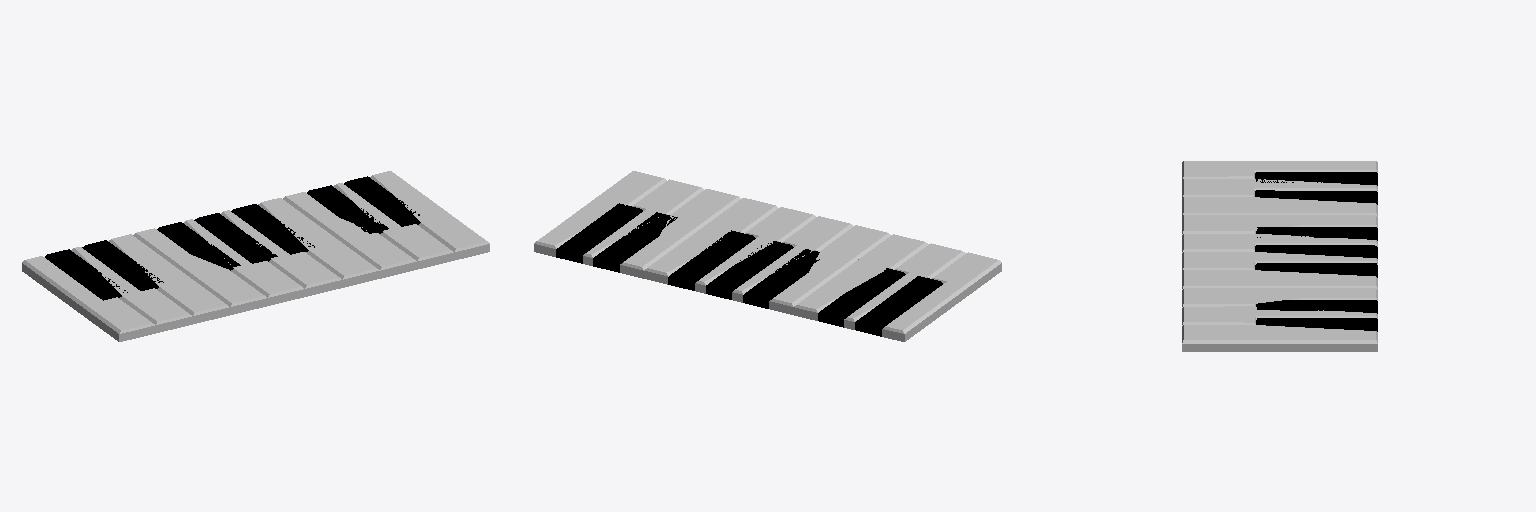
Rendered from piano.obj.
3 renders of one model, left to right at view 1: azimuth 30°, elevation 25°; view 2: azimuth 150°, elevation 25°; view 3: azimuth 270°, elevation 25°, orthographic.
Visible parts, largest first — view 1: Plane.017, Plane.012, Plane.006, Plane.013, Plane.005, Plane.001, Plane.015, Plane.003, Plane.008, Plane.010, Plane.009, Plane.016 (+5 smaller); view 2: Plane.017, Plane.013, Plane.012, Plane.005, Plane.006, Plane.001, Plane.008, Plane.010, Plane.003, Plane.015, Plane.016, Plane.007 (+5 smaller); view 3: Plane.001, Plane.006, Plane.013, Plane.005, Plane.012, Plane.017, Plane.015, Plane.010, Plane.008, Plane.003, Plane.004, Plane.016 (+5 smaller).
Part boxes in pixels (left/top/right/bottom): Plane.017: left=22, top=256, right=155, bottom=341; Plane.012: left=133, top=228, right=267, bottom=314; Plane.006: left=258, top=198, right=379, bottom=287; Plane.013: left=108, top=234, right=229, bottom=323; Plane.005: left=283, top=192, right=416, bottom=278; Plane.001: left=370, top=171, right=489, bottom=260; Plane.015: left=71, top=247, right=192, bottom=332; Plane.003: left=333, top=183, right=453, bottom=269; Plane.008: left=221, top=210, right=342, bottom=296; Plane.010: left=184, top=219, right=304, bottom=305; Plane.009: left=194, top=213, right=277, bottom=263; Plane.016: left=45, top=249, right=127, bottom=300; Plane.017: left=882, top=252, right=1001, bottom=341; Plane.013: left=793, top=234, right=928, bottom=320; Plane.012: left=769, top=225, right=890, bottom=314; Plane.005: left=620, top=189, right=740, bottom=278; Plane.006: left=644, top=198, right=778, bottom=284; Plane.001: left=534, top=171, right=666, bottom=256; Plane.008: left=695, top=207, right=815, bottom=293; Plane.010: left=732, top=216, right=853, bottom=302; Plane.003: left=583, top=179, right=703, bottom=265; Plane.015: left=844, top=243, right=965, bottom=329; Plane.016: left=855, top=276, right=942, bottom=336; Plane.007: left=668, top=230, right=755, bottom=290; Plane.001: left=1182, top=325, right=1377, bottom=351; Plane.006: left=1182, top=270, right=1377, bottom=289; Plane.013: left=1182, top=197, right=1377, bottom=216; Plane.005: left=1182, top=288, right=1377, bottom=307; Plane.012: left=1182, top=215, right=1377, bottom=234; Plane.017: left=1182, top=161, right=1377, bottom=179; Plane.015: left=1182, top=179, right=1377, bottom=197; Plane.010: left=1182, top=234, right=1377, bottom=252; Plane.008: left=1182, top=252, right=1377, bottom=270; Plane.003: left=1182, top=306, right=1377, bottom=325; Plane.004: left=1256, top=300, right=1377, bottom=313; Plane.016: left=1255, top=172, right=1377, bottom=185.
Bounding box in the file's own units: 0.2468 × 0.0069 × 0.1126.